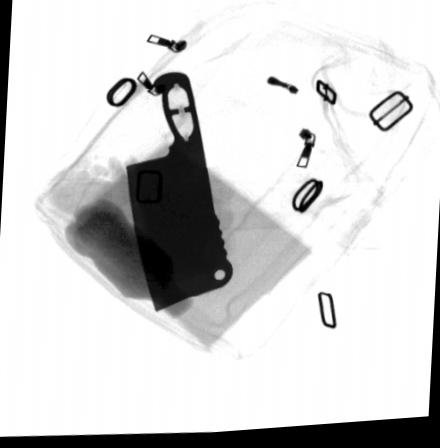Knife: (123, 71, 235, 316)
